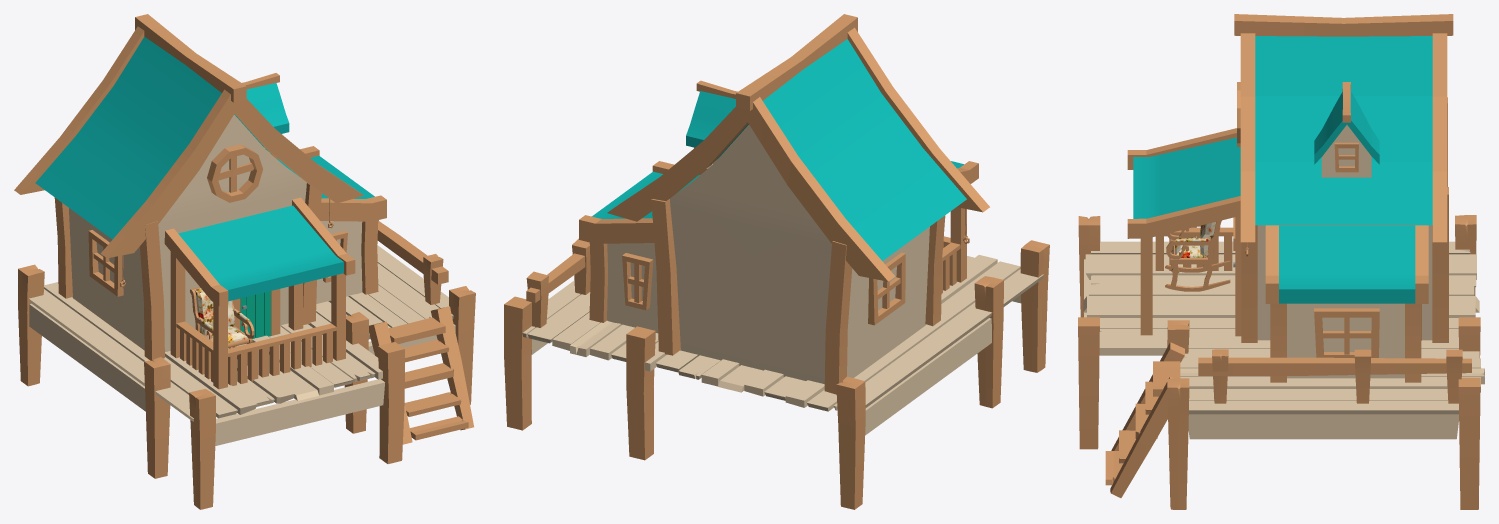
File: mizuumi.fbx
The picture shows the model from 3 angles, left to right: view 1: azimuth 30°, elevation 25°; view 2: azimuth 150°, elevation 25°; view 3: azimuth 270°, elevation 25°; orthographic projection. The views are drawn at different scales.
Parts seen in each view (by area): view 1: mizuumi; view 2: mizuumi; view 3: mizuumi.
Boxes of the visible parts, x1,y1,x2,y2 form: mizuumi: (14,14,475,509); mizuumi: (504,14,1049,509); mizuumi: (1078,14,1484,509).
Bounding box in the file's own units: 787 × 775 × 743.
Materials: 1 (1 with a texture image).
